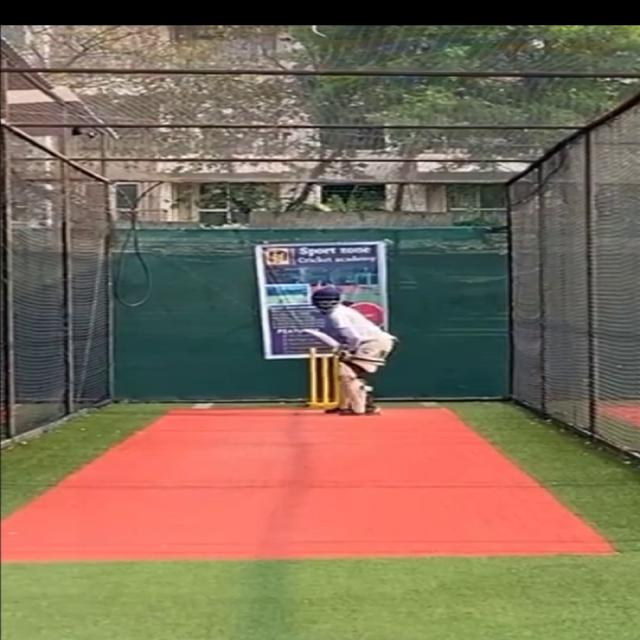stump: (303, 345, 342, 407)
